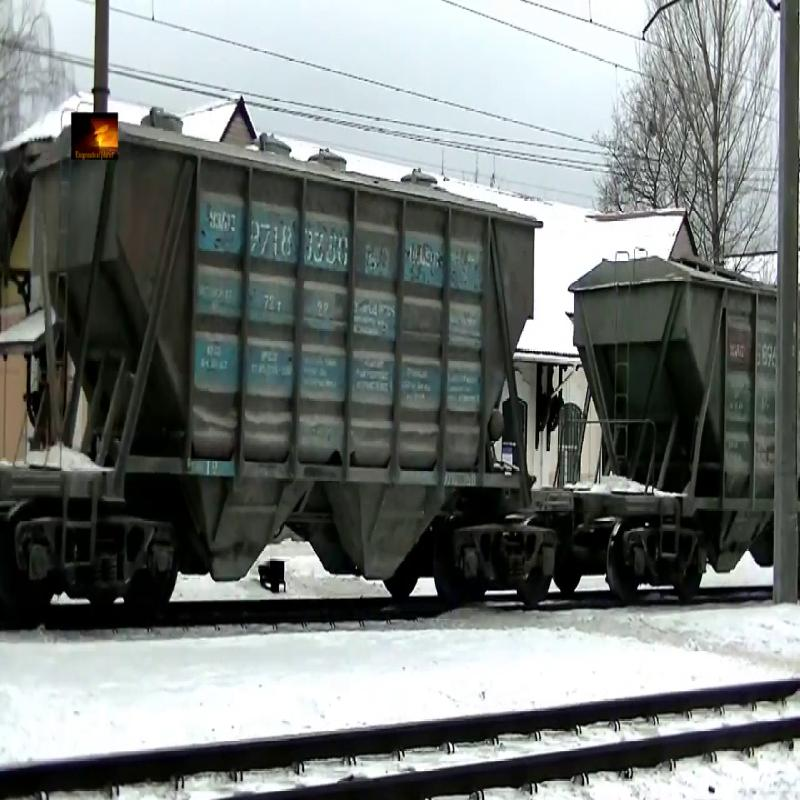train: (14, 119, 536, 613), (570, 259, 777, 603)
